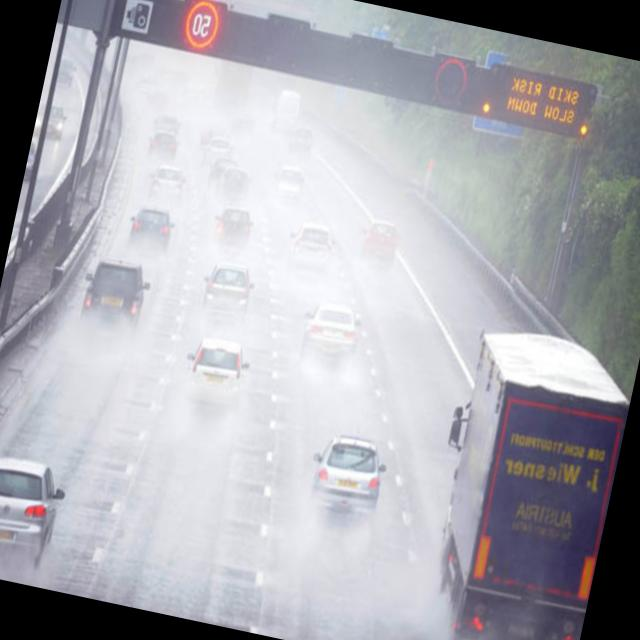bus: (405, 317, 635, 640), (271, 88, 304, 134)
car: (0, 451, 69, 565), (304, 429, 391, 516), (80, 256, 150, 334), (301, 297, 362, 360), (187, 332, 251, 391), (200, 259, 255, 315), (284, 218, 338, 275), (124, 202, 178, 250), (358, 217, 402, 267), (210, 202, 259, 246), (147, 163, 188, 201), (34, 100, 70, 142), (271, 162, 307, 202), (143, 129, 181, 164), (216, 164, 252, 198), (48, 52, 82, 86), (205, 155, 238, 190), (200, 135, 232, 171), (287, 125, 315, 156)
